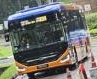bus: (38, 14, 47, 22)
